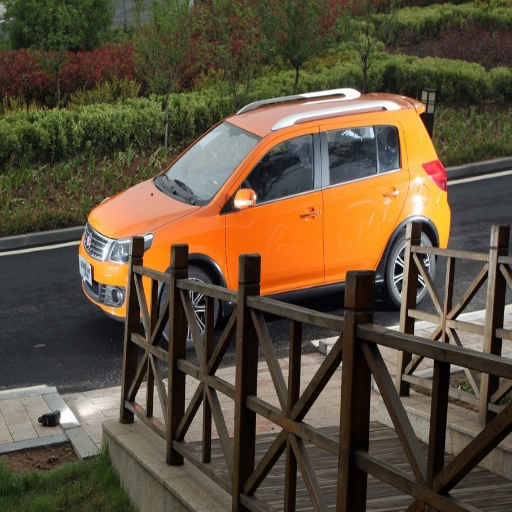back_left_door: (321, 110, 408, 283)
front_bumper: (80, 231, 135, 317)
front_glass: (154, 125, 256, 204)
front_left_door: (223, 121, 324, 299)
